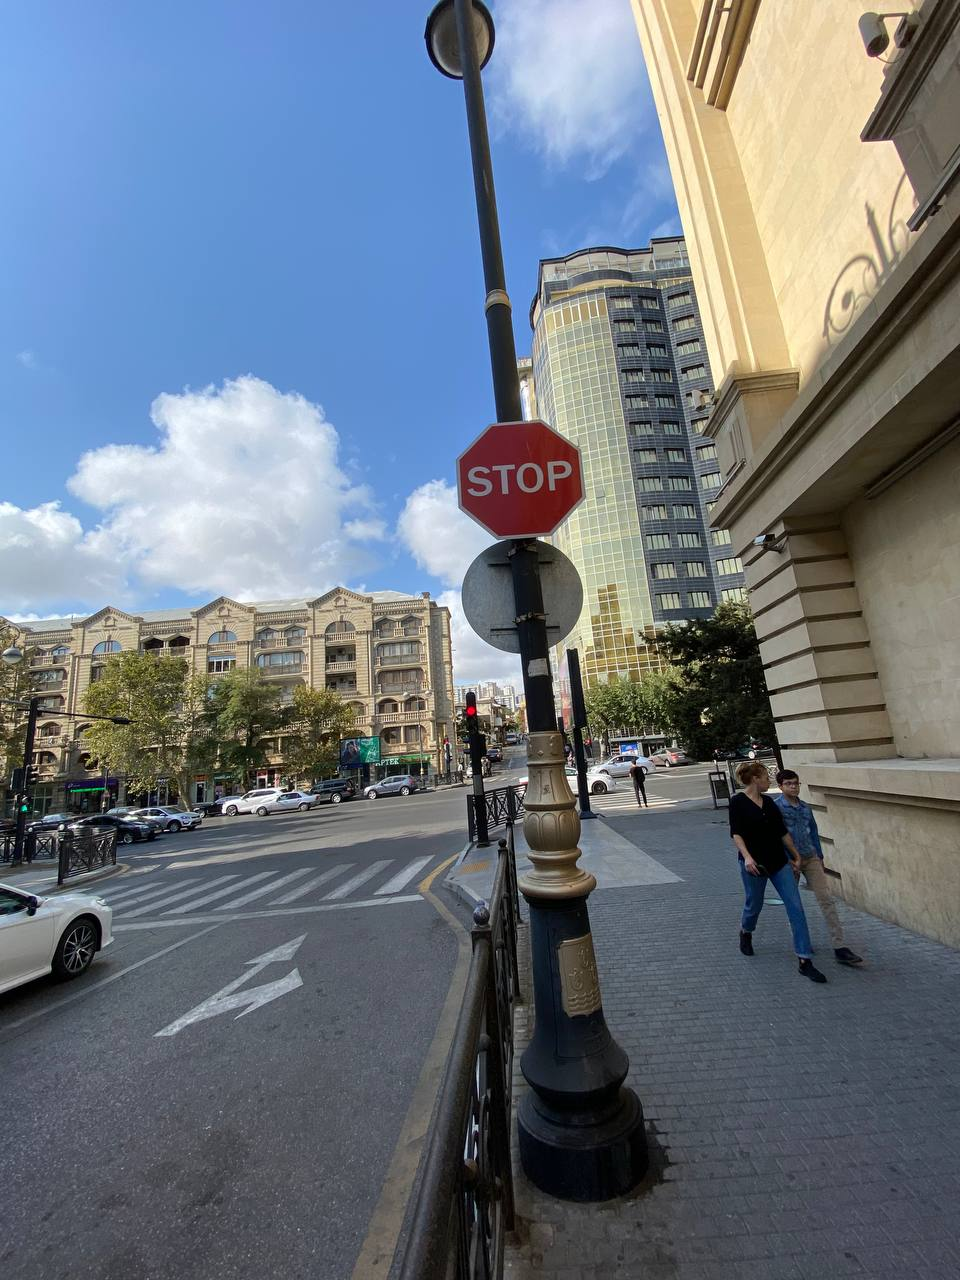STOP: (456, 420, 586, 541)
